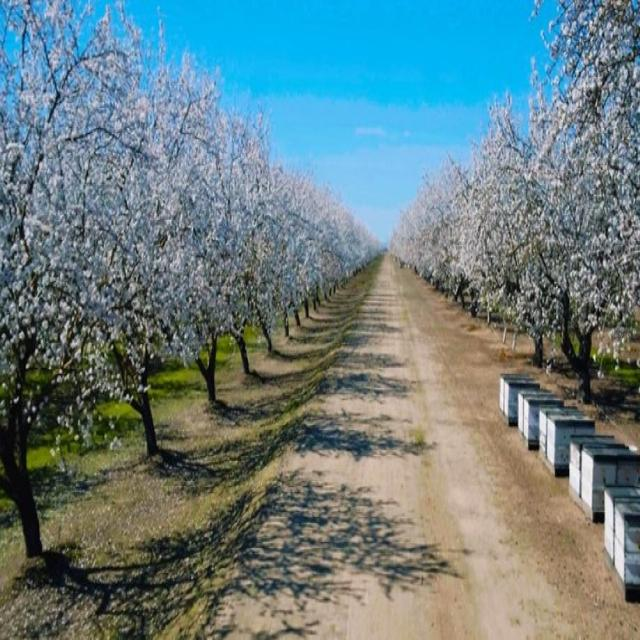row: (106, 250, 640, 640)
